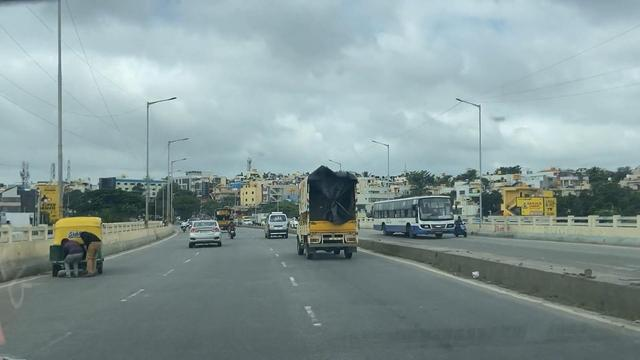HMV: (296, 166, 366, 256), (371, 195, 457, 241)
